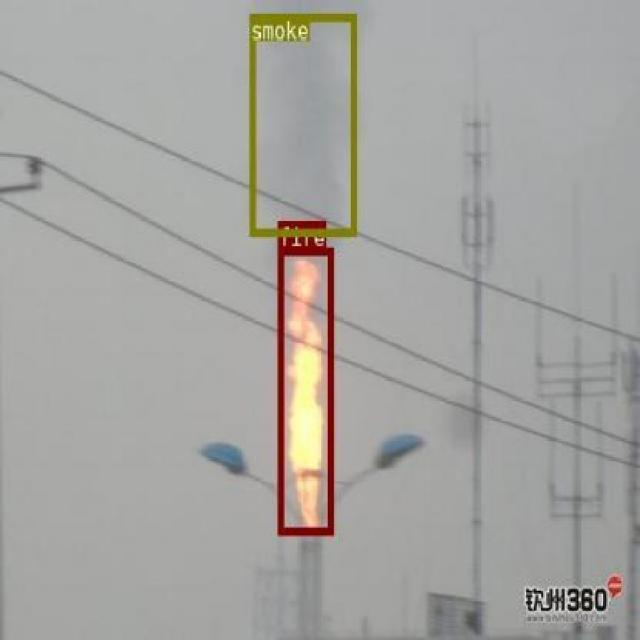Fire: (276, 247, 332, 533)
Smoke: (250, 12, 356, 236)
